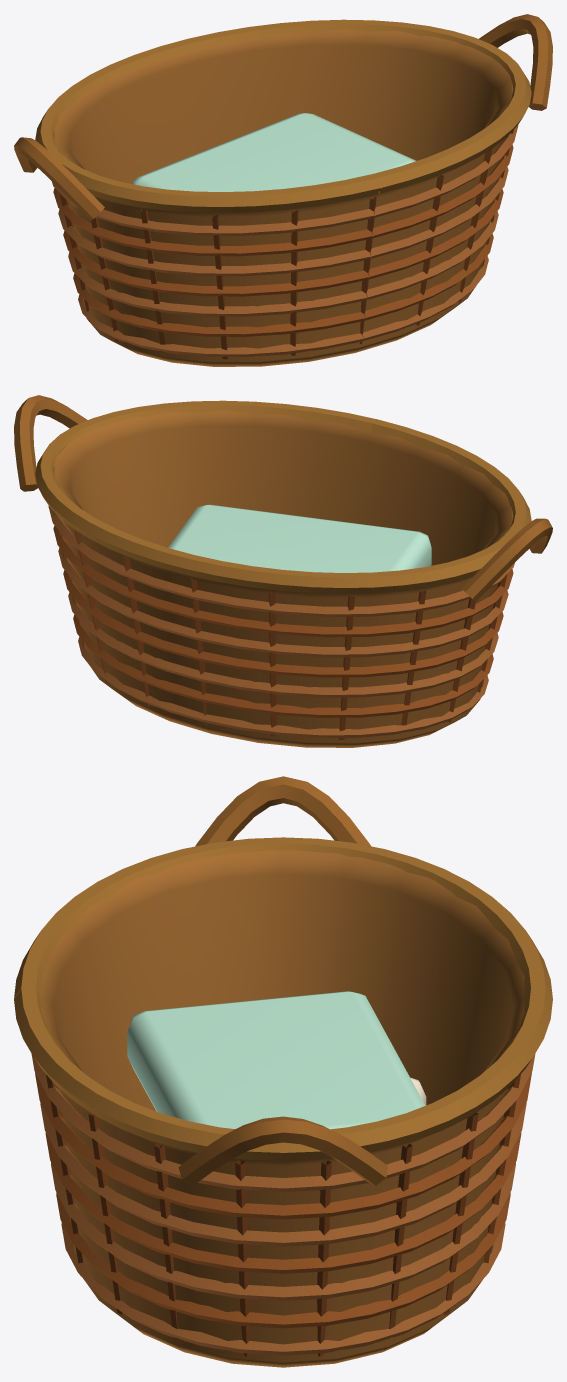
File: basket.glb
3 renders of one model, top to bottom at view 1: azimuth 30°, elevation 25°; view 2: azimuth 150°, elevation 25°; view 3: azimuth 270°, elevation 25°, orthographic. The views are drawn at different scales.
Parts seen in each view (by area): view 1: pv3_basket; view 2: pv3_basket; view 3: pv3_basket.
Part boxes in pixels (left/top/right/bottom): pv3_basket: left=14, top=14, right=552, bottom=366; pv3_basket: left=14, top=395, right=552, bottom=747; pv3_basket: left=14, top=776, right=552, bottom=1367.
Bounding box in the file's own units: 0.7954 × 0.3224 × 0.5163.
